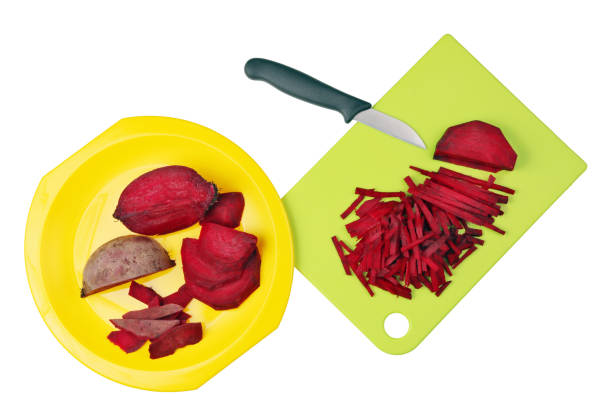knife: (242, 56, 429, 152)
